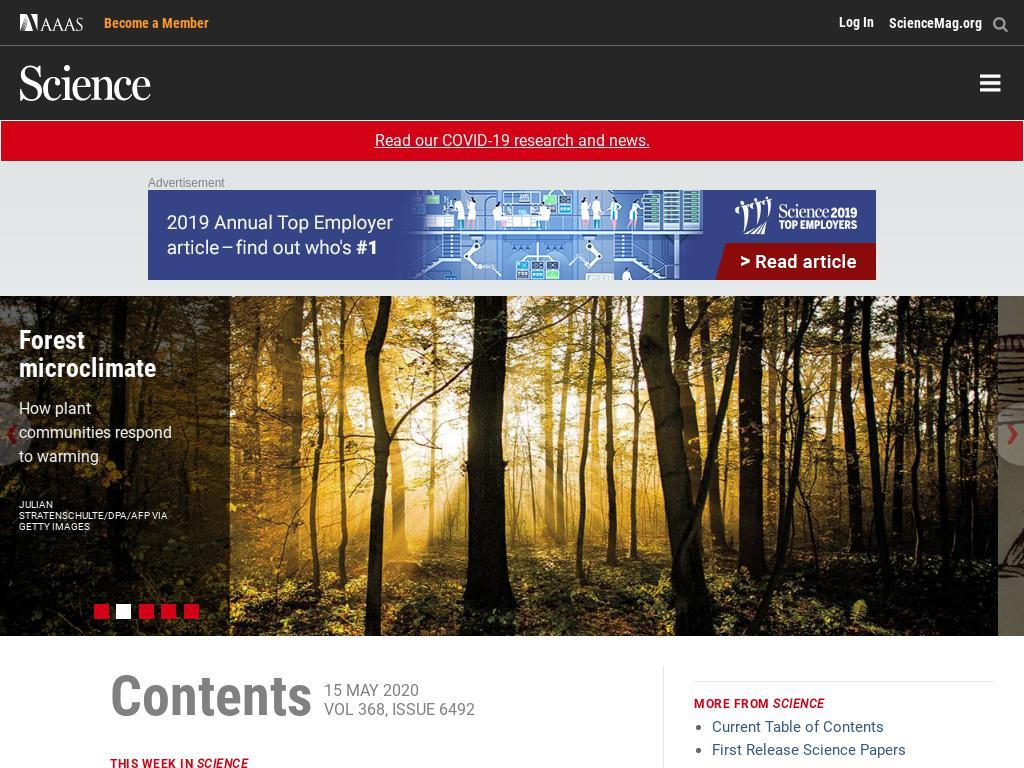button: (0, 296, 1024, 636), (20, 65, 152, 101), (104, 16, 209, 31), (889, 15, 982, 31), (993, 19, 1016, 32)
heading: (110, 666, 312, 727), (45, 325, 182, 383), (694, 697, 773, 711), (110, 757, 197, 768), (773, 697, 825, 711), (196, 757, 248, 768)
iframe: (148, 190, 876, 280)
image: (0, 296, 1024, 636), (20, 65, 152, 101), (20, 14, 84, 31), (980, 71, 1004, 95), (993, 16, 1009, 32), (116, 603, 132, 619), (138, 603, 154, 619), (161, 603, 177, 619), (183, 603, 199, 619)
link: (45, 399, 198, 466), (374, 131, 650, 150), (45, 499, 194, 532), (712, 741, 907, 759), (712, 717, 885, 736), (839, 15, 874, 30), (712, 764, 763, 768)
text: (148, 177, 876, 190), (0, 763, 1024, 768), (323, 700, 475, 719), (323, 681, 419, 700), (4, 402, 20, 459), (1004, 402, 1019, 459)
